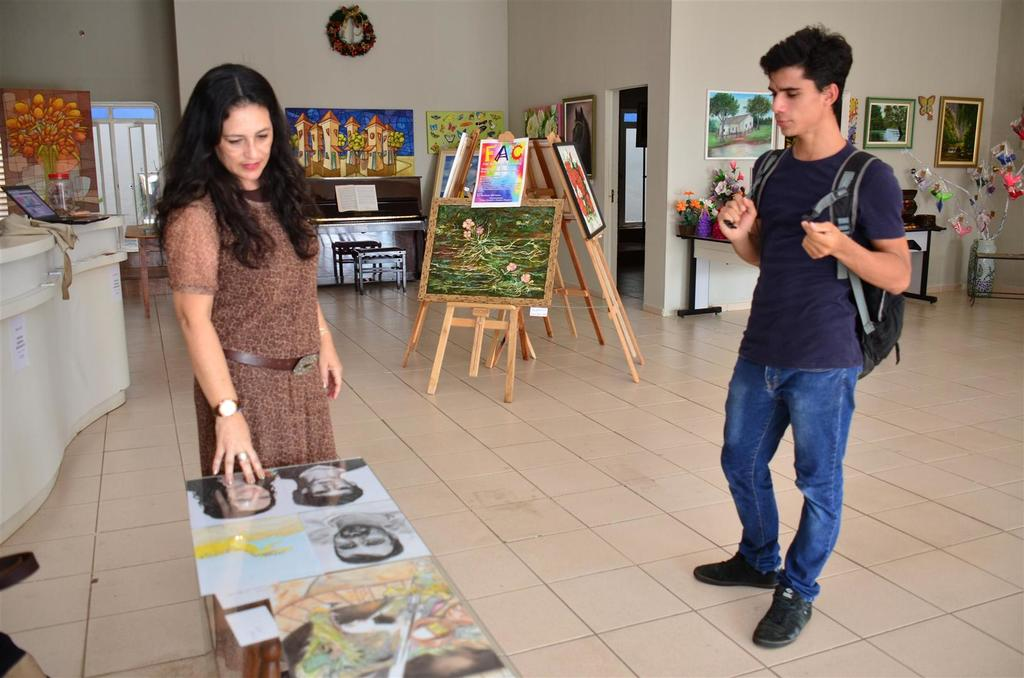Table: (124, 221, 166, 319)
